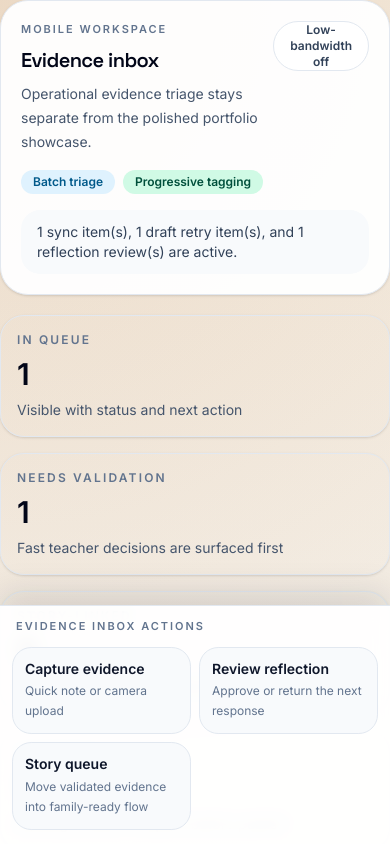
Test case: EvidenceInbox › opens the mobile capture sheet from the action dock
The width and height of the screenshot is (390, 844).
Click the button "Capture evidence Quick note or camera upload": (102, 690) [12,647,191,734]
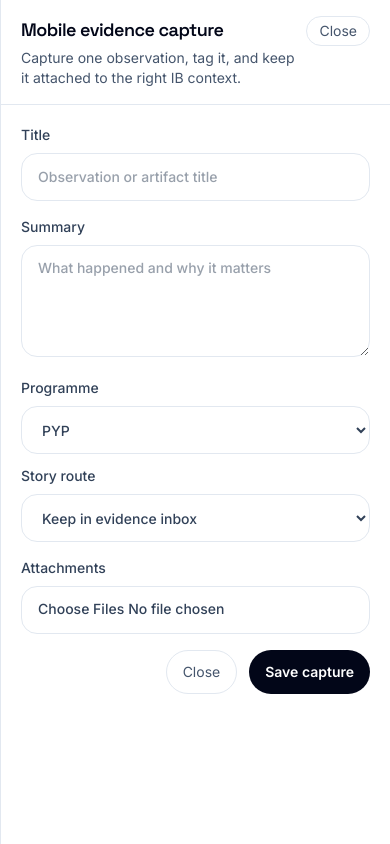
Check: the heading "Mobile evidence capture" is shown, box [21,18,223,41]
